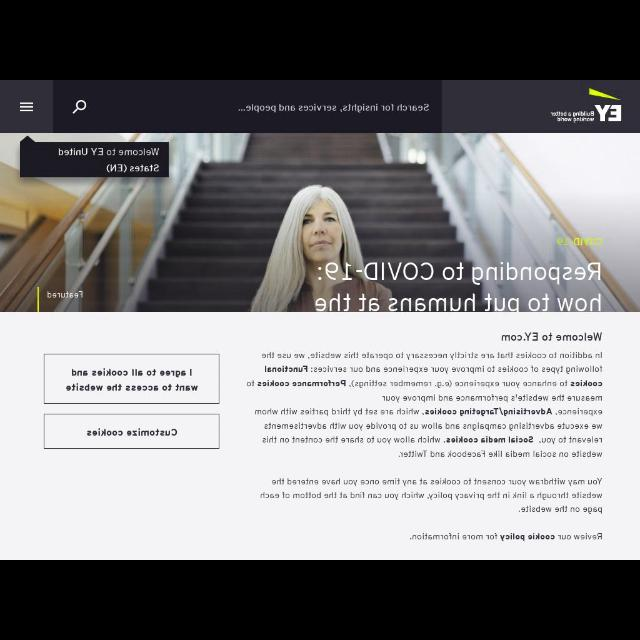backgroundimage: (1, 134, 640, 312)
icon: (71, 99, 87, 115), (19, 102, 35, 115)
image: (550, 88, 624, 122)
input: (54, 81, 442, 133)
text: (246, 351, 604, 459), (314, 261, 602, 311), (261, 478, 604, 514), (58, 146, 162, 174), (238, 102, 430, 115), (409, 532, 603, 542), (502, 332, 602, 342), (556, 236, 604, 248), (46, 290, 84, 300)
textbutton: (44, 354, 218, 404), (44, 416, 218, 448)
toolbar: (1, 80, 640, 134)
